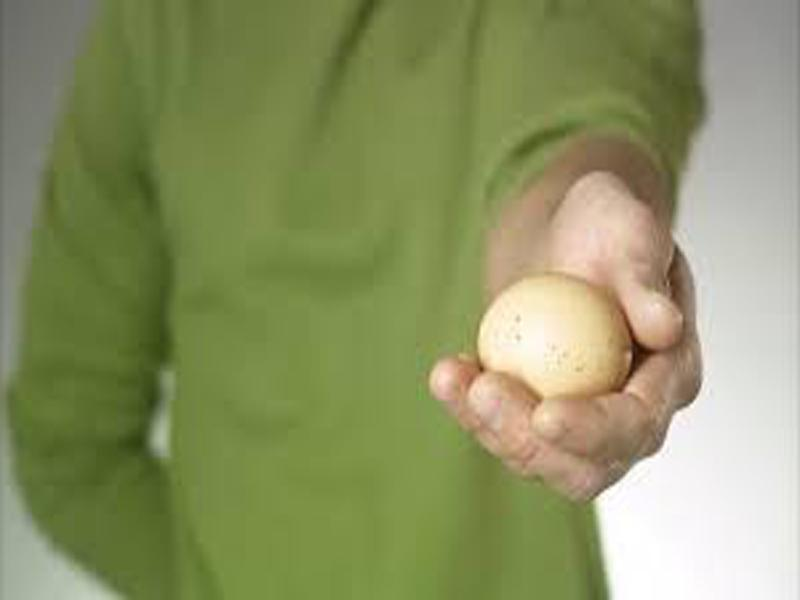Eggs: (476, 275, 631, 400)
